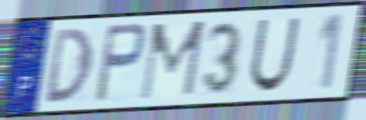1: (315, 11, 344, 94)
3: (200, 19, 245, 96)
D: (43, 26, 95, 106)
M: (137, 18, 208, 103)
P: (92, 21, 148, 105)
U: (247, 16, 302, 95)
